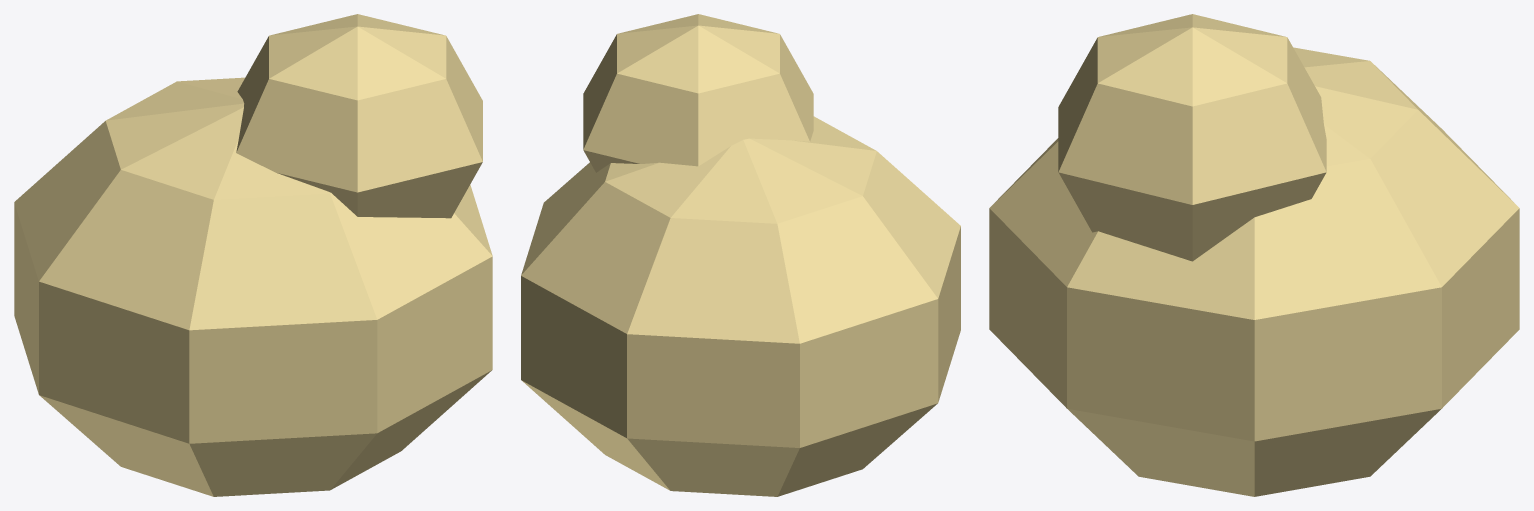
The model's file is prison_mash.glb.
3 renders of one model, left to right at view 1: azimuth 30°, elevation 25°; view 2: azimuth 150°, elevation 25°; view 3: azimuth 270°, elevation 25°, orthographic. The views are drawn at different scales.
Parts seen in each view (by area): view 1: mash_mash (×2); view 2: mash_mash (×2); view 3: mash_mash (×2).
Part boxes in pixels (bbox=[...]): mash_mash (×2): bbox=[14, 14, 492, 496]; mash_mash (×2): bbox=[521, 14, 960, 496]; mash_mash (×2): bbox=[989, 14, 1519, 496].
Bounding box in the file's own units: 0.0856 × 0.085 × 0.0856.
